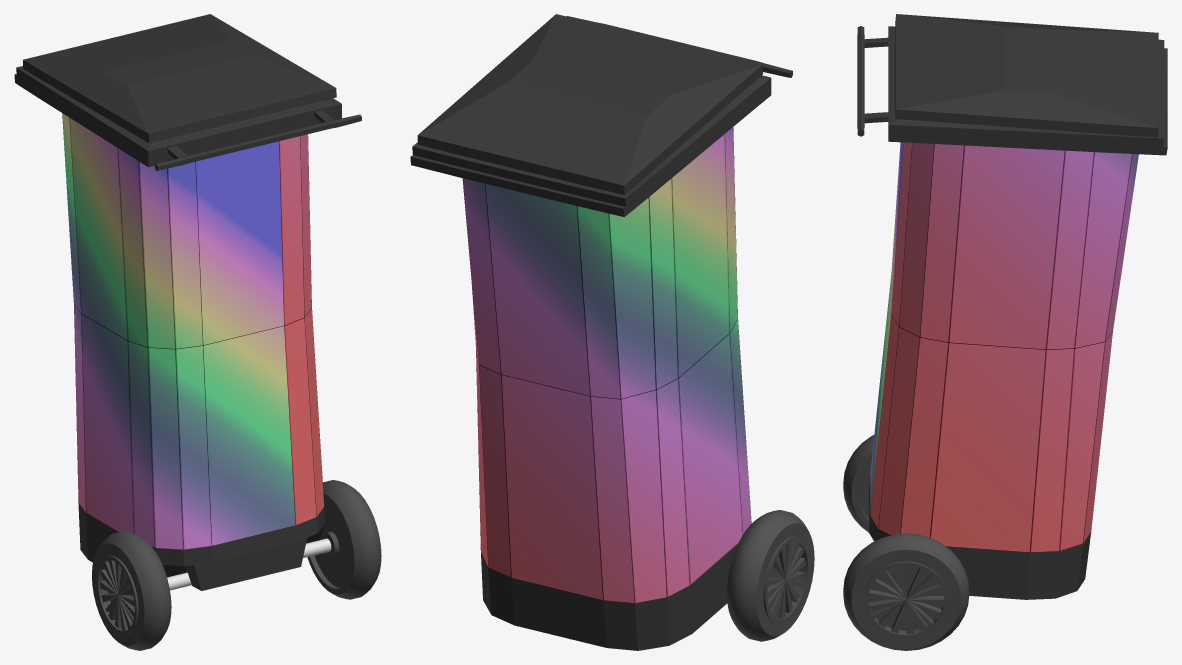
Rendered from bin.gltf.
The picture shows the model from 3 angles, left to right: view 1: azimuth 30°, elevation 25°; view 2: azimuth 150°, elevation 25°; view 3: azimuth 270°, elevation 25°; orthographic projection. The views are drawn at different scales.
Visible parts, largest first — view 1: Kliko, Lid, Wheels; view 2: Kliko, Lid, Wheels; view 3: Kliko, Lid, Wheels.
Boxes of the visible parts, x1,y1,x2,y2 form: Kliko: (14, 66, 361, 590); Lid: (23, 14, 336, 142); Wheels: (92, 480, 381, 650); Kliko: (410, 16, 792, 650); Lid: (417, 14, 763, 194); Wheels: (727, 510, 814, 641); Kliko: (857, 26, 1167, 599); Lid: (895, 14, 1158, 137); Wheels: (843, 435, 969, 650).
Size of the model in its own units: 0.6596 by 1.35 by 0.7386.
Materials: 4 (1 with a texture image).
